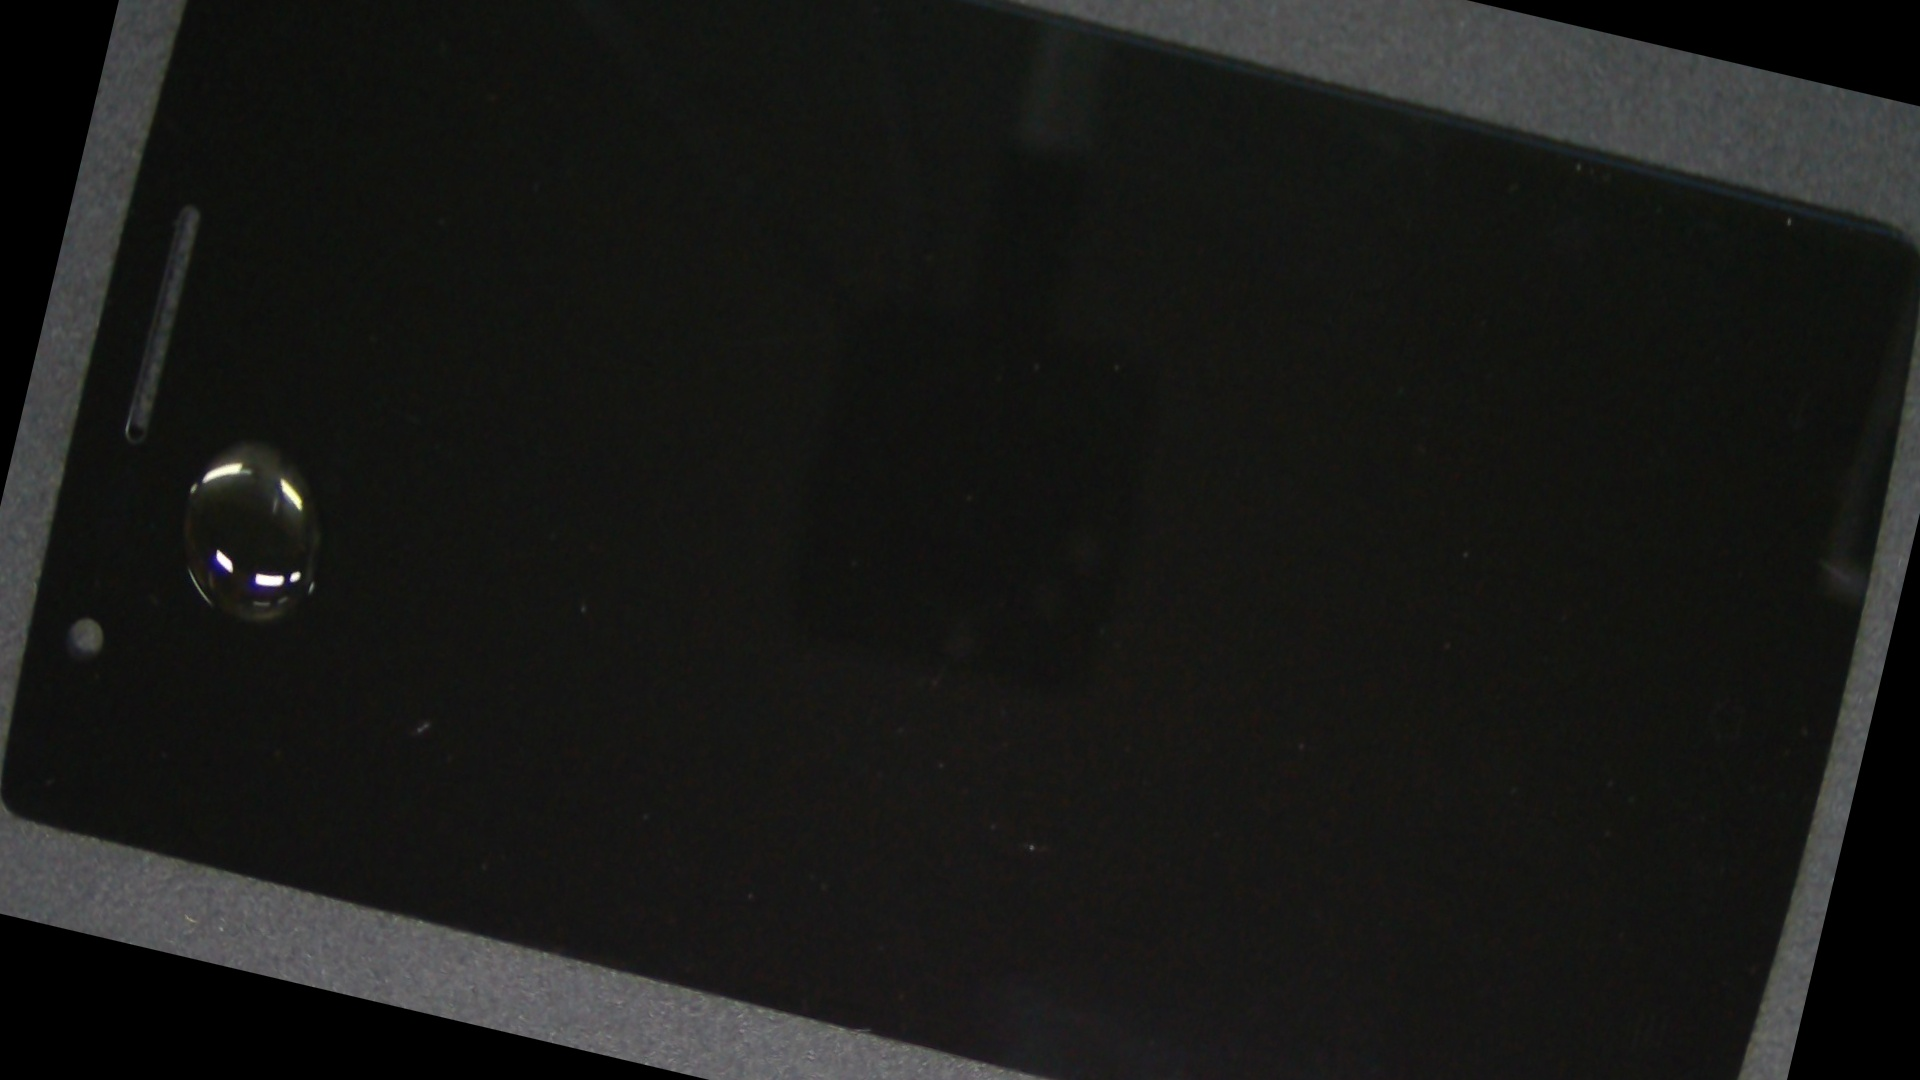oil: (62, 71, 454, 815)
